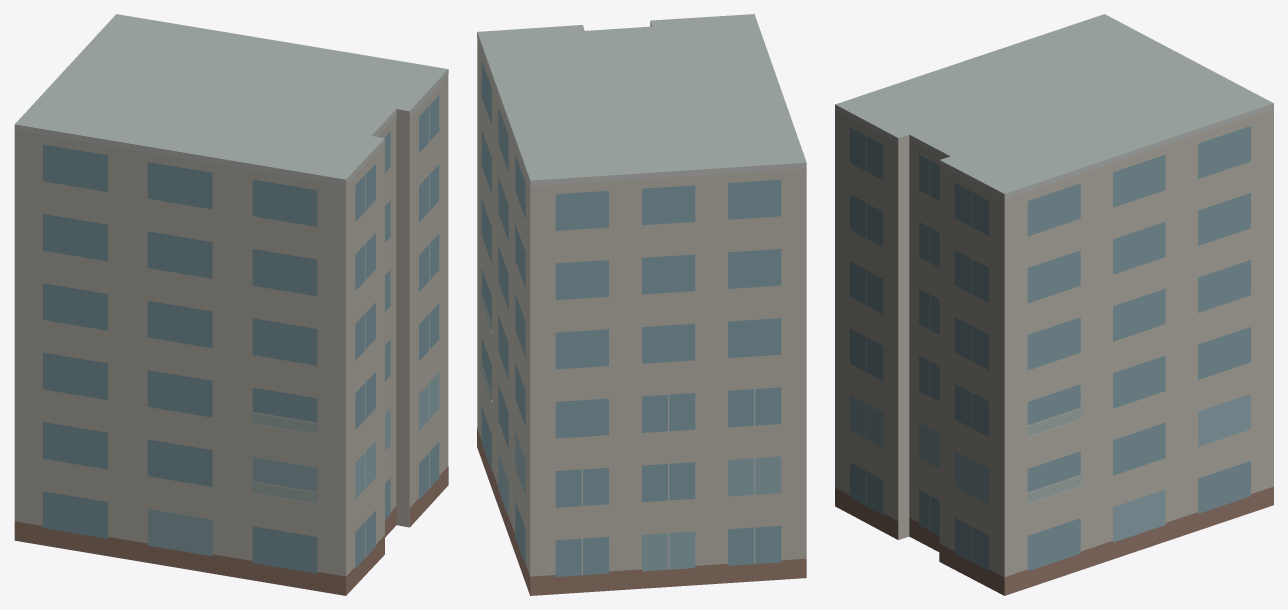
File: survey-upis-32923641.glb
The picture shows the model from 3 angles, left to right: view 1: azimuth 30°, elevation 25°; view 2: azimuth 150°, elevation 25°; view 3: azimuth 270°, elevation 25°; orthographic projection. The views are drawn at different scales.
Visible parts, largest first — view 1: survey-upis-32923641.tmp; view 2: survey-upis-32923641.tmp; view 3: survey-upis-32923641.tmp.
Boxes of the visible parts, x1,y1,x2,y2 form: survey-upis-32923641.tmp: [14, 14, 448, 595]; survey-upis-32923641.tmp: [477, 14, 806, 595]; survey-upis-32923641.tmp: [835, 14, 1273, 595].
Bounding box in the file's own units: 16.91 × 17.6 × 17.42.
